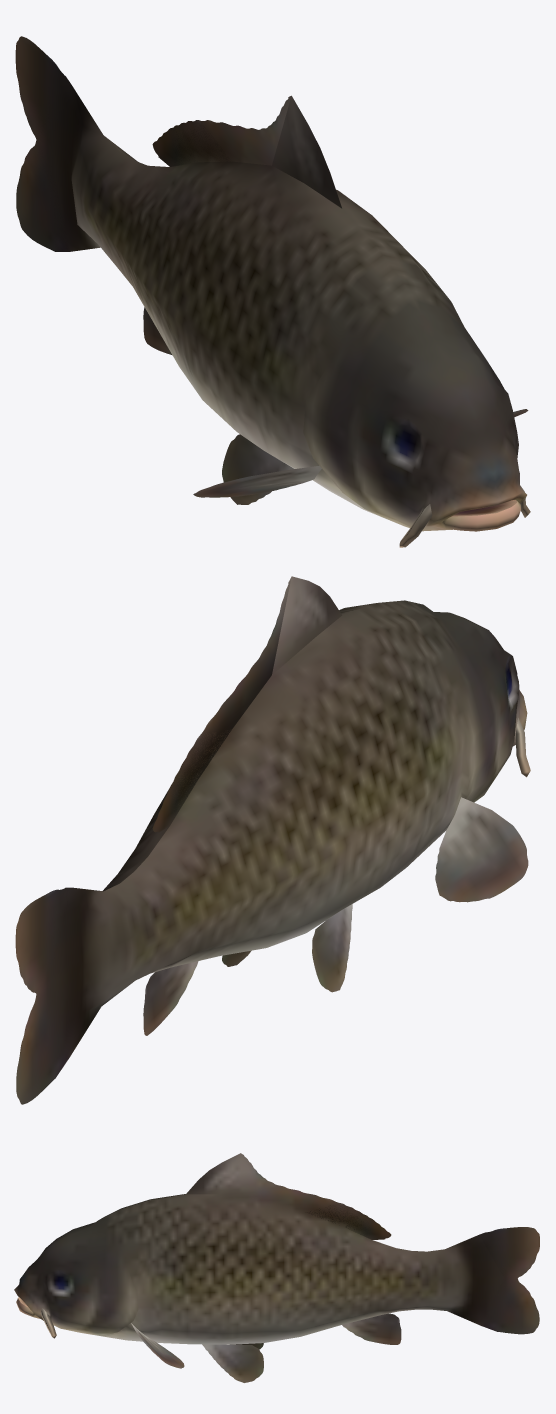
File: carp.glb
3 views of the same model, one above another, from view 1: azimuth 30°, elevation 25°; view 2: azimuth 150°, elevation 25°; view 3: azimuth 270°, elevation 25° (orthographic). The views are drawn at different scales.
Size of the model in its own units: 3.93 by 4.34 by 9.
Materials: 1 (1 with a texture image).
